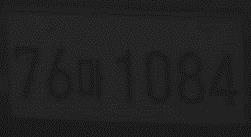0: (145, 48, 172, 106)
1: (115, 47, 136, 104)
4: (207, 53, 242, 105)
6: (46, 46, 73, 99)
7: (14, 44, 41, 97)
8: (176, 51, 206, 104)
마: (77, 57, 106, 98)
